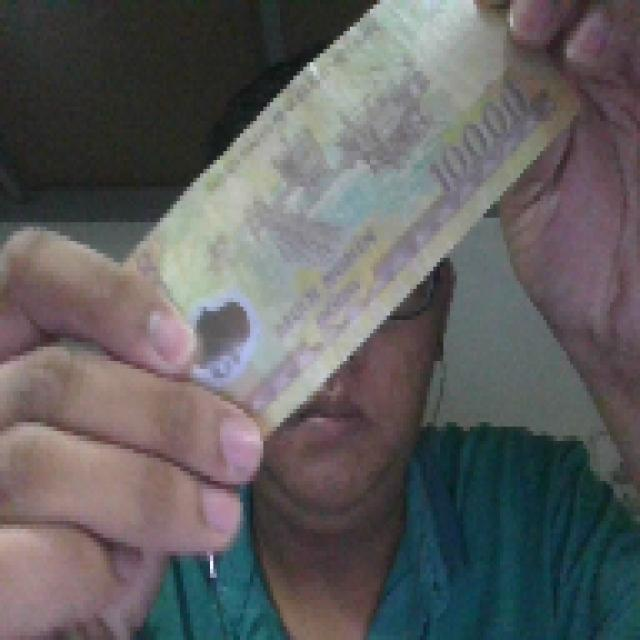10 000 VND: (91, 0, 640, 488)
